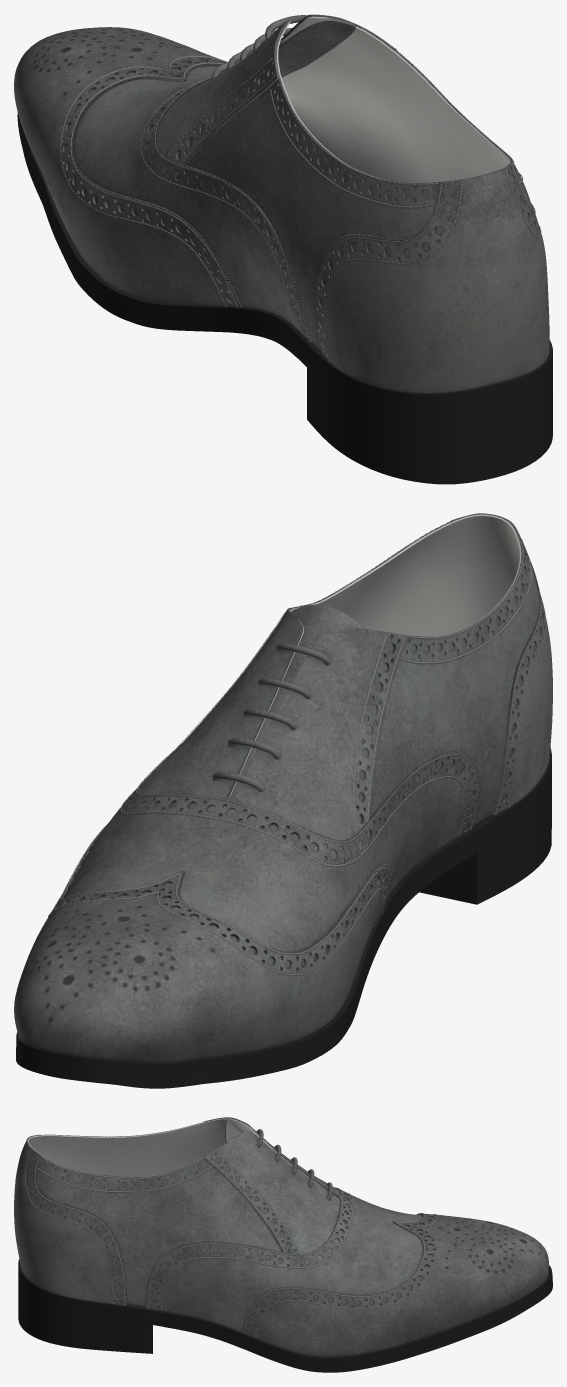
Rendered from ShoeWithText.glb.
3 views of the same model, one above another, from view 1: azimuth 30°, elevation 25°; view 2: azimuth 150°, elevation 25°; view 3: azimuth 270°, elevation 25° (orthographic). The views are drawn at different scales.
Visible parts, largest first — view 1: Back_Cap, Sole, Toe_Cap, Quarter, Upper, Linning, Facing, Stiches, Tounge, Shoe Laces; view 2: Toe_Cap, Upper, Facing, Quarter, Sole, Linning, Back_Cap, Stiches, Tounge, Shoe Laces; view 3: Toe_Cap, Upper, Quarter, Sole, Back_Cap, Facing, Linning, Stiches, Shoe Laces.
Part boxes in pixels (x1,y1,x2,y2): Back_Cap: [314, 164, 549, 393]; Sole: [17, 113, 552, 484]; Toe_Cap: [14, 27, 241, 307]; Quarter: [177, 15, 534, 350]; Upper: [64, 60, 311, 342]; Linning: [277, 16, 510, 182]; Facing: [144, 14, 397, 181]; Stiches: [60, 48, 541, 361]; Tounge: [278, 18, 356, 77]; Shoe Laces: [211, 15, 306, 78]; Toe_Cap: [14, 824, 390, 1063]; Upper: [64, 749, 480, 970]; Facing: [125, 608, 409, 862]; Quarter: [228, 513, 543, 838]; Sole: [16, 747, 551, 1088]; Linning: [219, 514, 521, 816]; Back_Cap: [450, 513, 552, 815]; Stiches: [48, 521, 546, 975]; Tounge: [220, 604, 363, 816]; Shoe Laces: [213, 643, 330, 791]; Toe_Cap: [242, 1213, 548, 1356]; Upper: [145, 1187, 434, 1335]; Quarter: [27, 1118, 338, 1307]; Sole: [18, 1259, 552, 1372]; Back_Cap: [14, 1134, 126, 1305]; Facing: [203, 1117, 350, 1266]; Linning: [28, 1118, 325, 1189]; Stiches: [25, 1135, 437, 1337]; Shoe Laces: [255, 1129, 332, 1200].
Size of the model in its own units: 0.0211 by 0.0241 by 0.0581.
Materials: 7 (5 with a texture image).
